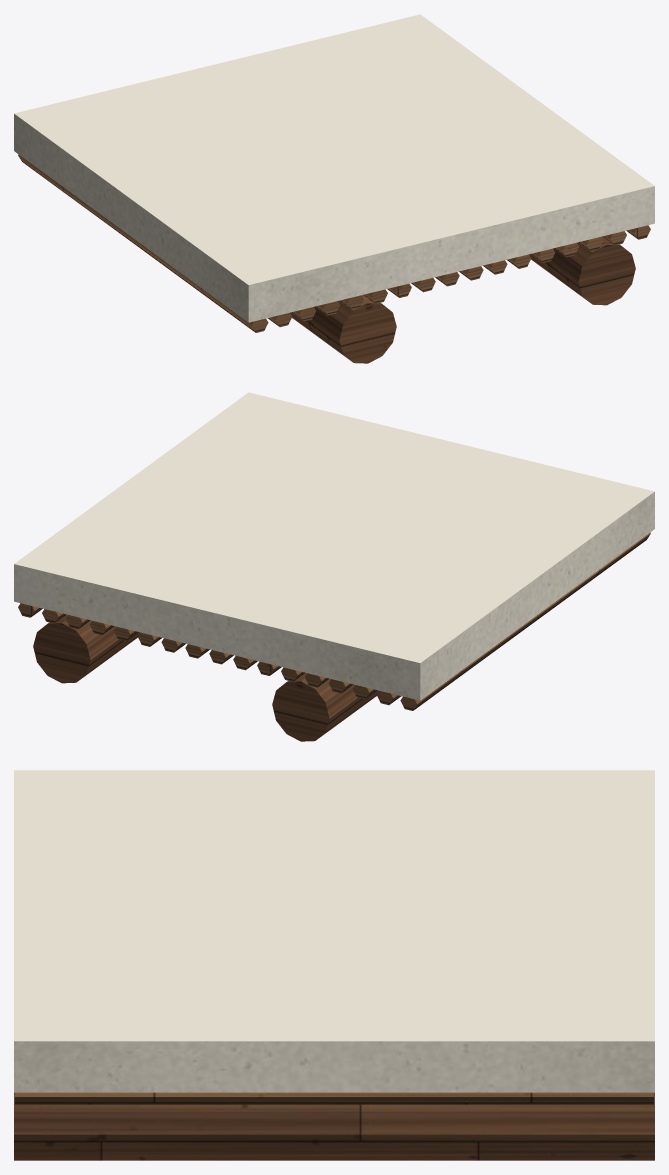
File: m_ceiling_e0110.glb
The picture shows the model from 3 angles, top to bottom: view 1: azimuth 30°, elevation 25°; view 2: azimuth 150°, elevation 25°; view 3: azimuth 270°, elevation 25°; orthographic projection. The views are drawn at different scales.
Visible parts, largest first — view 1: m_ceiling_e0110_plaster, m_ceiling_e0110_wood, m_ceiling_e0110_planks; view 2: m_ceiling_e0110_plaster, m_ceiling_e0110_wood, m_ceiling_e0110_planks; view 3: m_ceiling_e0110_plaster, m_ceiling_e0110_wood, m_ceiling_e0110_planks.
Boxes of the visible parts, x1,y1,x2,y2 form: m_ceiling_e0110_plaster: (14, 14, 654, 322); m_ceiling_e0110_wood: (290, 236, 635, 363); m_ceiling_e0110_planks: (18, 154, 650, 332); m_ceiling_e0110_plaster: (14, 392, 654, 700); m_ceiling_e0110_wood: (33, 614, 378, 741); m_ceiling_e0110_planks: (18, 532, 650, 710); m_ceiling_e0110_plaster: (14, 770, 654, 1092); m_ceiling_e0110_wood: (14, 1092, 654, 1160); m_ceiling_e0110_planks: (15, 1092, 653, 1104).
Size of the model in its own units: 1.7 by 0.43 by 1.7.
Materials: 3 (3 with a texture image).
